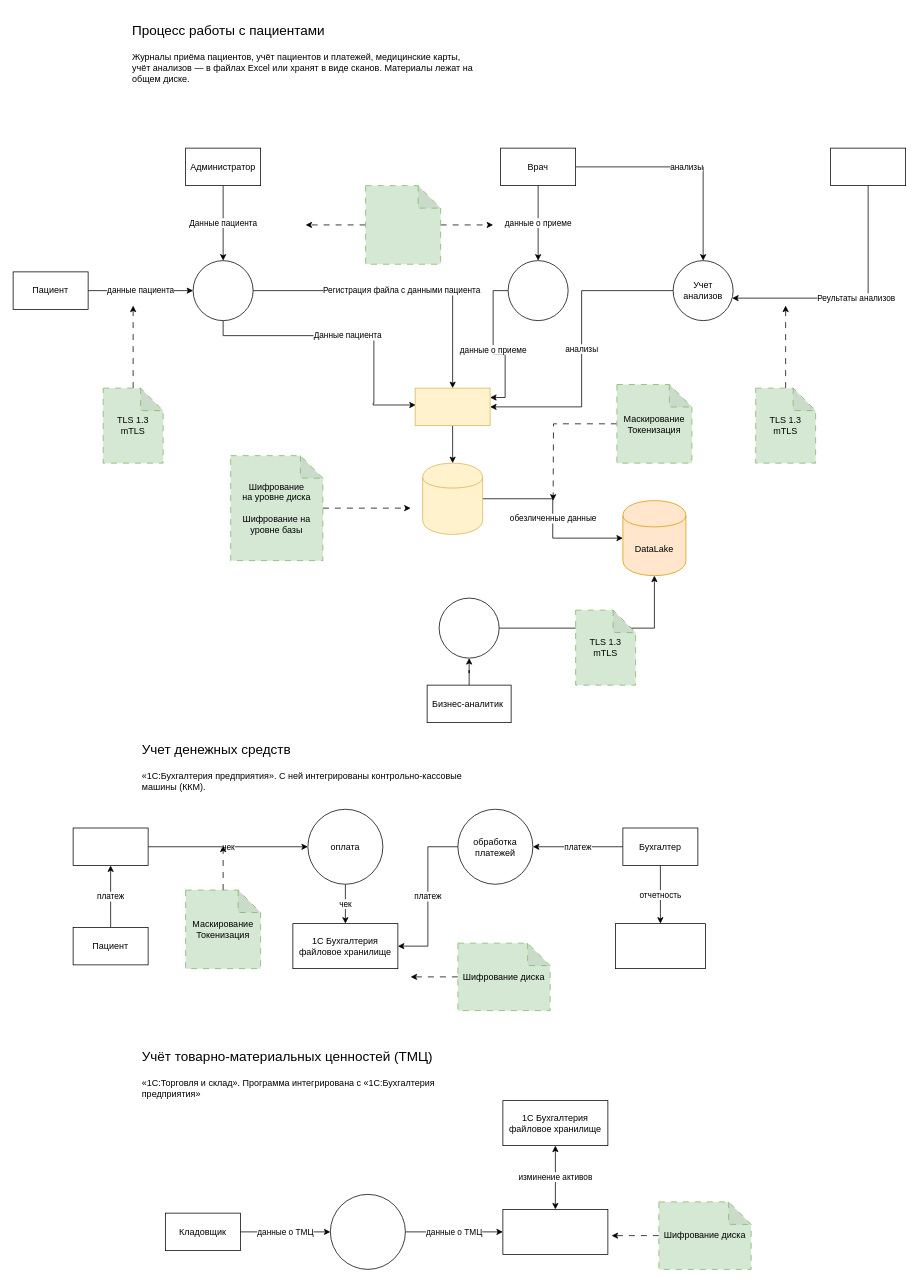
Some shapes in this 919 by 1283 pixel diagram are drawn without their labels. Each missing label, with the centre of its shape:
"1С Торговля и склад файловое хранилище" belongs at (555,1231).
"CRM" belongs at (452,406).
"CRM CrypedDb" belongs at (452,498).
"P&L, ABC-анализ и тп" belongs at (468,627).
"Ведение журнала своего приема" belongs at (537,290).
"Кассир" belongs at (110,846).
"Лабаратория" belongs at (868,166).
"Налоговая" belongs at (660,946).
"Разграничение ролей RBAC ABAC Аудит DLC" belongs at (403,224).
"Регистрация пациента" belongs at (222,290).
"Учет товарно материальных ценностей" belongs at (367,1231).
